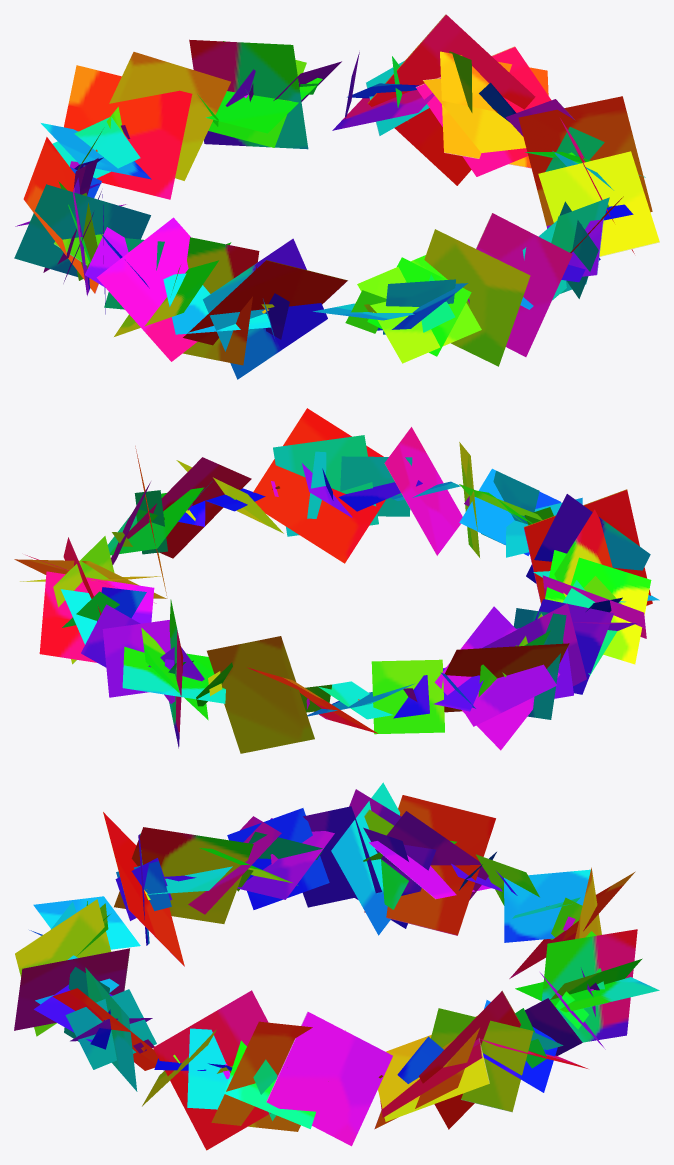
File: mesh_flowerCrown.fbx
The picture shows the model from 3 angles, top to bottom: view 1: azimuth 30°, elevation 25°; view 2: azimuth 150°, elevation 25°; view 3: azimuth 270°, elevation 25°; orthographic projection. The views are drawn at different scales.
Visible parts, largest first — view 1: FlowerCrown; view 2: FlowerCrown; view 3: FlowerCrown.
Part boxes in pixels (box(x1,y1,x2,y2)): FlowerCrown: box(14, 14, 659, 379); FlowerCrown: box(14, 408, 659, 753); FlowerCrown: box(14, 782, 659, 1150).
Size of the model in its own units: 2.42 by 0.6171 by 2.46.
